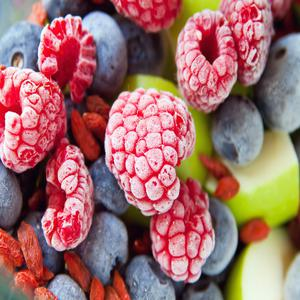raspb: (100, 86, 202, 211)
